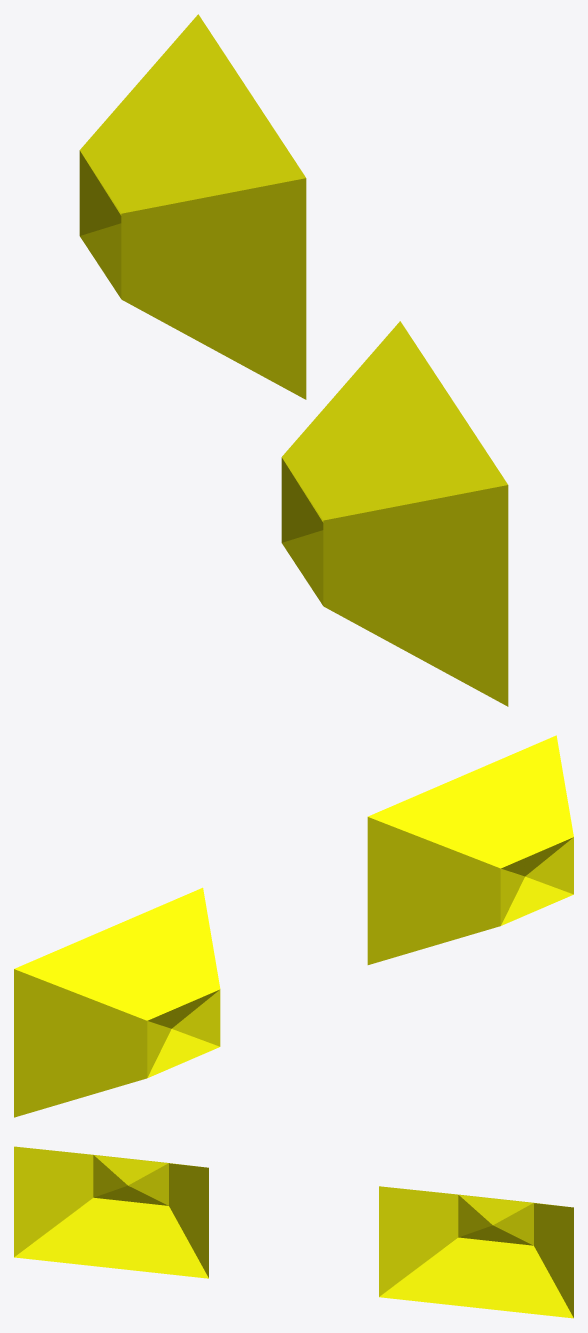
The model's file is light.011.fbx.
3 views of the same model, one above another, from view 1: azimuth 30°, elevation 25°; view 2: azimuth 150°, elevation 25°; view 3: azimuth 270°, elevation 25° (orthographic). The views are drawn at different scales.
Visible parts, largest first — view 1: light.011; view 2: light.011; view 3: light.011.
Part boxes in pixels (left/top/right/bottom): light.011: left=79, top=14, right=508, bottom=706; light.011: left=14, top=735, right=573, bottom=1117; light.011: left=14, top=1146, right=573, bottom=1318.
Bounding box in the file's own units: 288 × 106 × 63.06.
